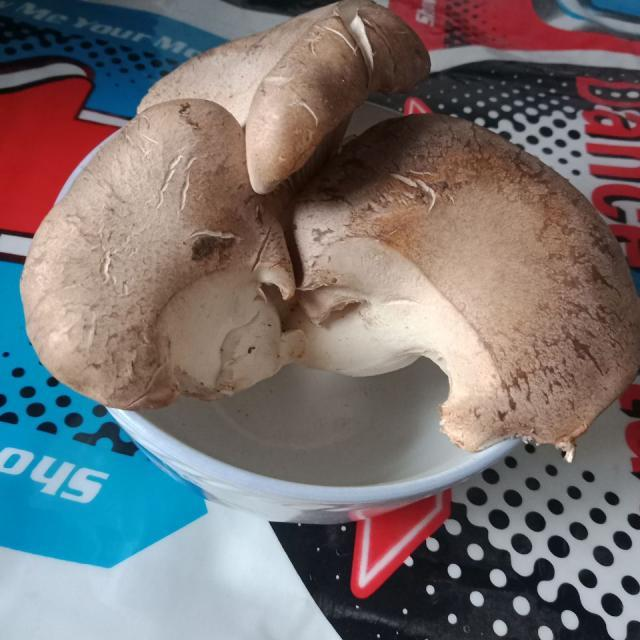Pleurotus cystidiosus: (293, 109, 640, 451), (29, 102, 302, 406), (139, 2, 432, 194)
